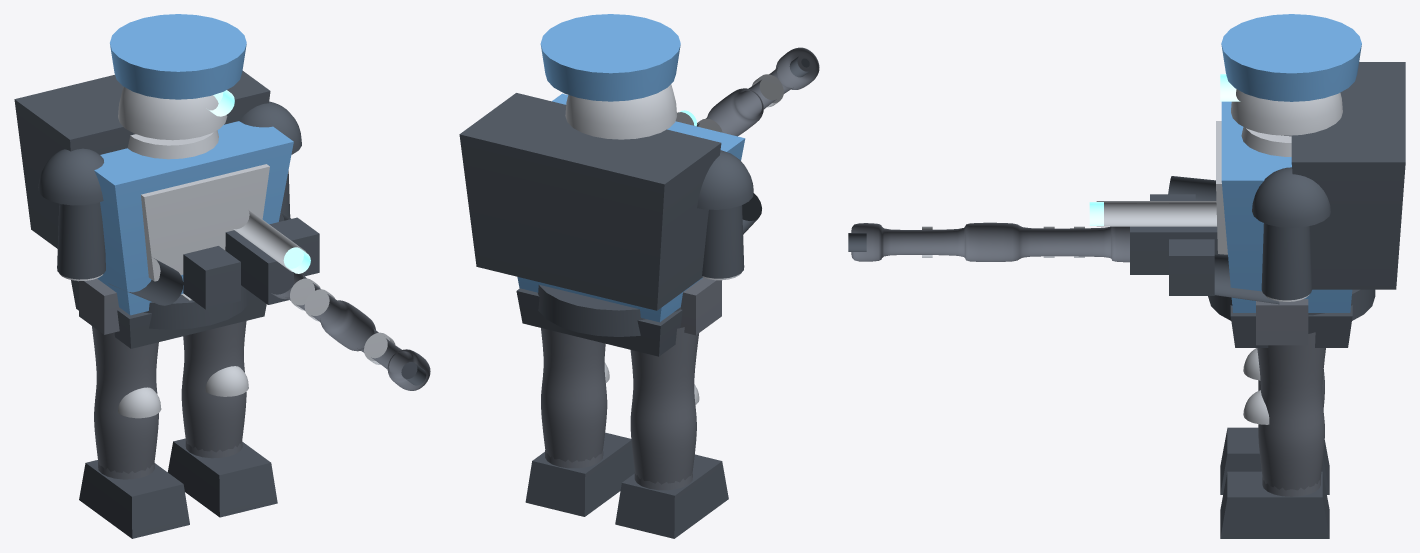
The model's file is snipe.glb.
3 renders of one model, left to right at view 1: azimuth 30°, elevation 25°; view 2: azimuth 150°, elevation 25°; view 3: azimuth 270°, elevation 25°, orthographic. The views are drawn at different scales.
Parts seen in each view (by area): view 1: Hull; view 2: Hull; view 3: Hull.
Part boxes in pixels (left/top/right/bottom): Hull: left=14, top=14, right=430, bottom=538; Hull: left=459, top=14, right=819, bottom=538; Hull: left=848, top=14, right=1405, bottom=538.
Bounding box in the file's own units: 0.6011 × 1.02 × 1.11.
